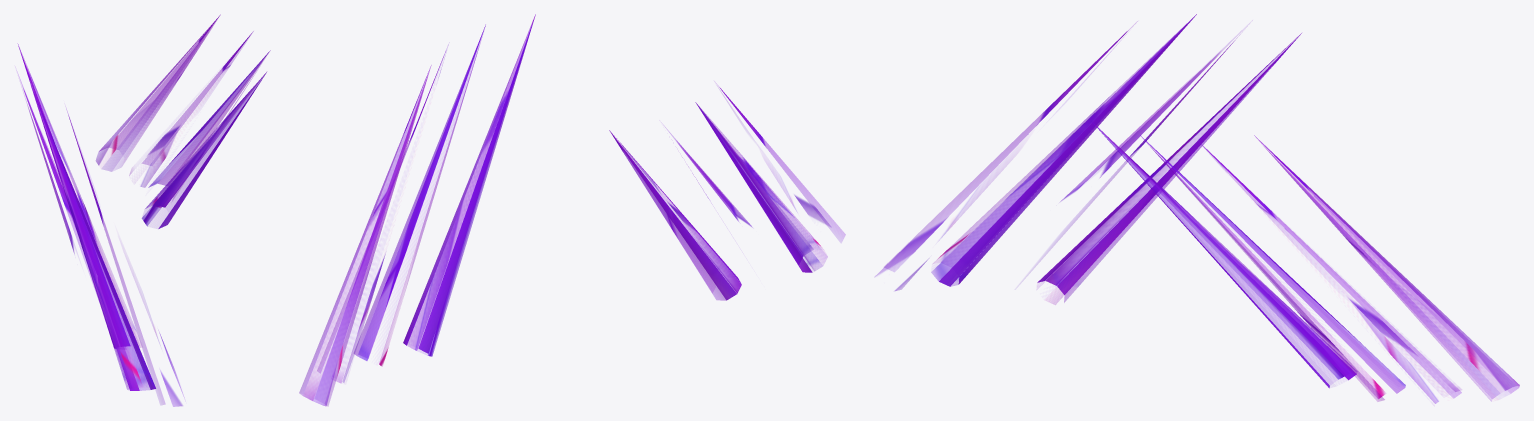
File: Lighteffect3.glb
3 renders of one model, left to right at view 1: azimuth 30°, elevation 25°; view 2: azimuth 150°, elevation 25°; view 3: azimuth 270°, elevation 25°, orthographic. The views are drawn at different scales.
Parts seen in each view (by area): view 1: 柱体.026, 柱体.003, 柱体.023, 柱体.025, 柱体.036, 柱体.008, 柱体.022, 柱体.024; view 2: 柱体.025, 柱体.023, 柱体.036, 柱体.003, 柱体.026, 柱体.008, 柱体.022, 柱体.024; view 3: 柱体.026, 柱体.003, 柱体.025, 柱体.023, 柱体.036, 柱体.022, 柱体.008, 柱体.024.
Part boxes in pixels (x1=…): 柱体.026: x1=31, y1=86, x2=155, y2=390; 柱体.003: x1=17, y1=43, x2=140, y2=348; 柱体.023: x1=96, y1=14, x2=220, y2=171; 柱体.025: x1=142, y1=72, x2=266, y2=228; 柱体.036: x1=148, y1=50, x2=270, y2=207; 柱体.008: x1=66, y1=108, x2=184, y2=406; 柱体.022: x1=129, y1=31, x2=253, y2=187; 柱体.024: x1=16, y1=70, x2=96, y2=293; 柱体.025: x1=403, y1=14, x2=535, y2=356; 柱体.023: x1=299, y1=65, x2=431, y2=406; 柱体.036: x1=354, y1=24, x2=485, y2=366; 柱体.003: x1=609, y1=130, x2=741, y2=300; 柱体.026: x1=695, y1=102, x2=827, y2=272; 柱体.008: x1=716, y1=83, x2=845, y2=242; 柱体.022: x1=317, y1=44, x2=448, y2=382; 柱体.024: x1=665, y1=127, x2=752, y2=227; 柱体.026: x1=931, y1=14, x2=1196, y2=286; 柱体.003: x1=1037, y1=33, x2=1301, y2=304; 柱体.025: x1=1091, y1=121, x2=1357, y2=388; 柱体.023: x1=1254, y1=135, x2=1519, y2=401; 柱体.036: x1=1140, y1=135, x2=1405, y2=401; 柱体.022: x1=1197, y1=140, x2=1461, y2=403; 柱体.008: x1=875, y1=21, x2=1137, y2=290; 柱体.024: x1=1025, y1=23, x2=1249, y2=277.
Size of the model in its own units: 28.4 by 25.86 by 56.56.
Materials: 1 (1 with a texture image).
